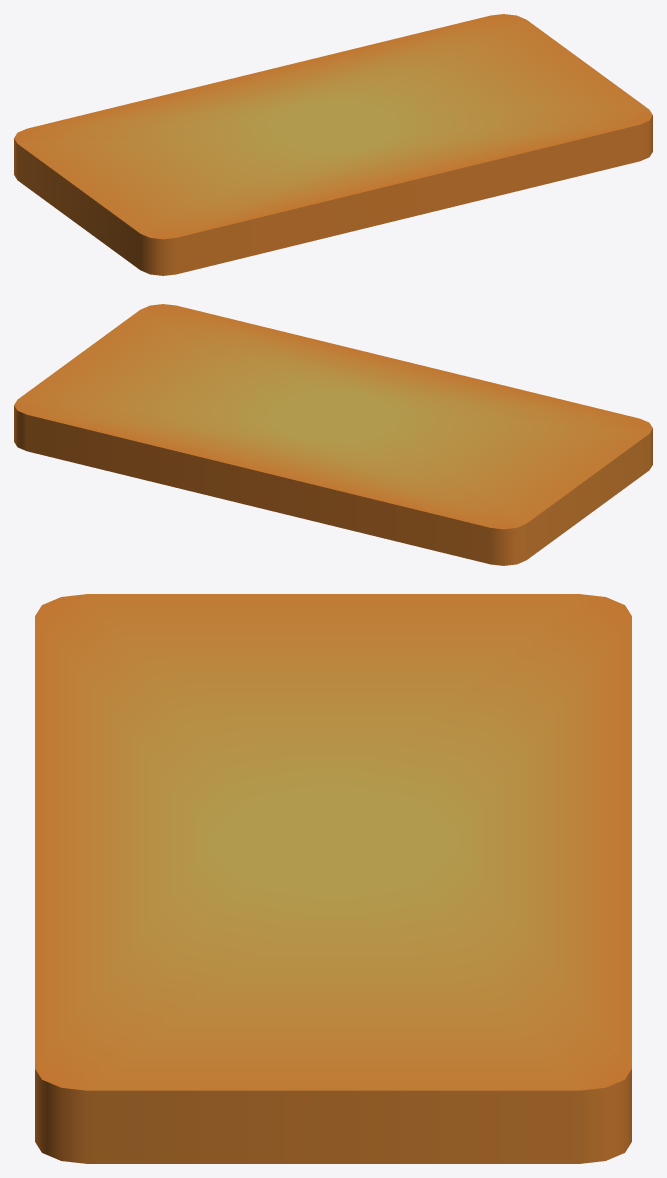
3 views of the same model, one above another, from view 1: azimuth 30°, elevation 25°; view 2: azimuth 150°, elevation 25°; view 3: azimuth 270°, elevation 25° (orthographic). The views are drawn at different scales.
Parts seen in each view (by area): view 1: LOD 0_7040328769381660891_78e382a95436ca24cb13f2e28dcea642; view 2: LOD 0_7040328769381660891_78e382a95436ca24cb13f2e28dcea642; view 3: LOD 0_7040328769381660891_78e382a95436ca24cb13f2e28dcea642.
Boxes of the visible parts, x1,y1,x2,y2 form: LOD 0_7040328769381660891_78e382a95436ca24cb13f2e28dcea642: (14, 14, 652, 275); LOD 0_7040328769381660891_78e382a95436ca24cb13f2e28dcea642: (14, 304, 652, 565); LOD 0_7040328769381660891_78e382a95436ca24cb13f2e28dcea642: (35, 594, 631, 1163).
Size of the model in its own units: 2.24 by 0.154 by 1.14.
